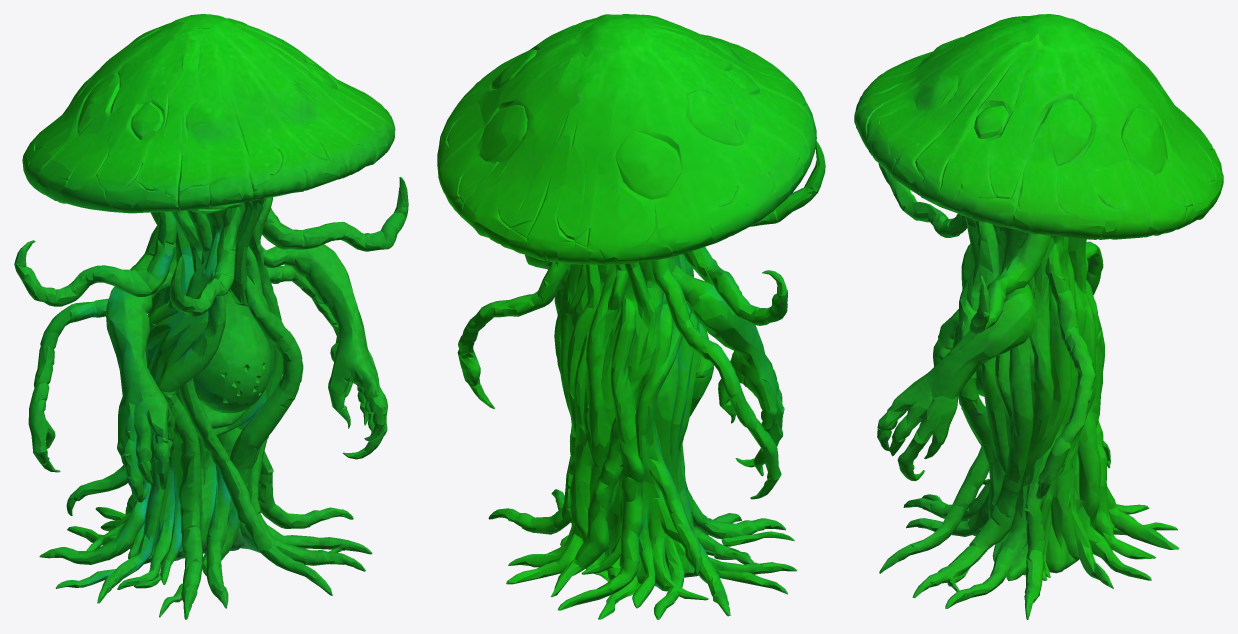
Rendered from raid_mycora.glb.
The picture shows the model from 3 angles, left to right: view 1: azimuth 30°, elevation 25°; view 2: azimuth 150°, elevation 25°; view 3: azimuth 270°, elevation 25°; orthographic projection. The views are drawn at different scales.
Size of the model in its own units: 1.32 by 1.9 by 1.2.
1 material, 1 textured.
